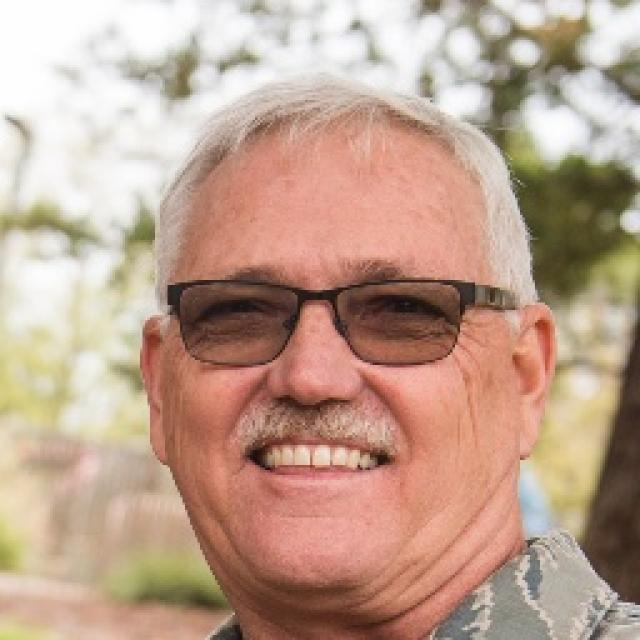earlobe: (510, 302, 558, 460), (137, 314, 172, 466)
